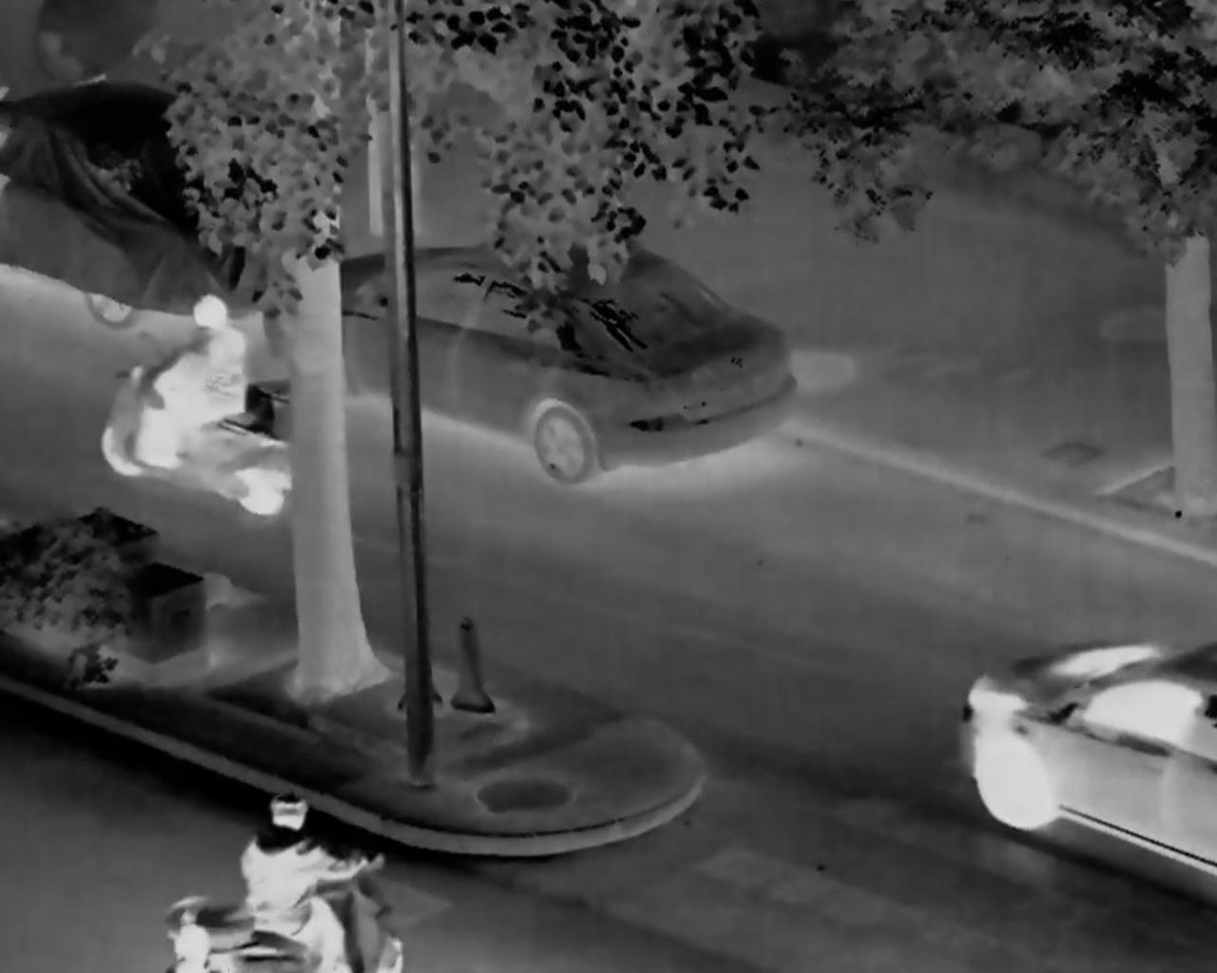person: (237, 792, 365, 969), (146, 296, 246, 470)
